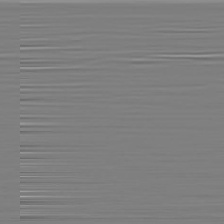cavities: (101, 30, 181, 138)
